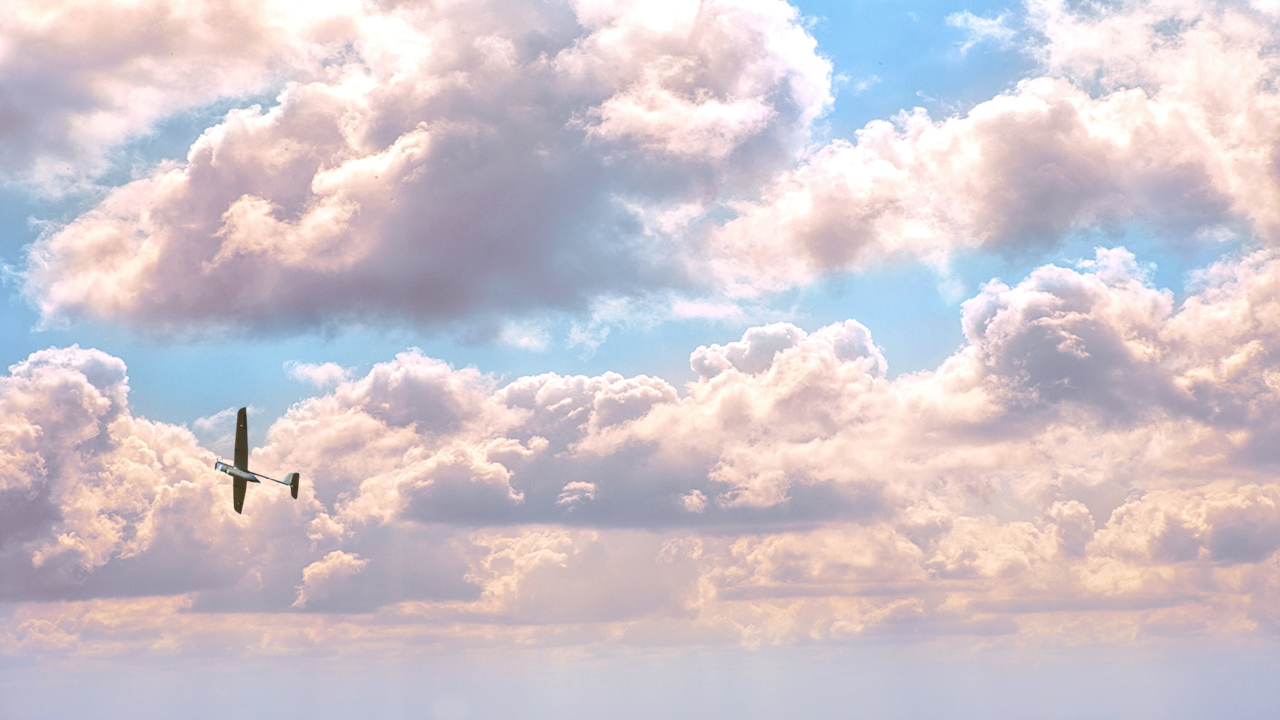military drone: (213, 406, 299, 514)
